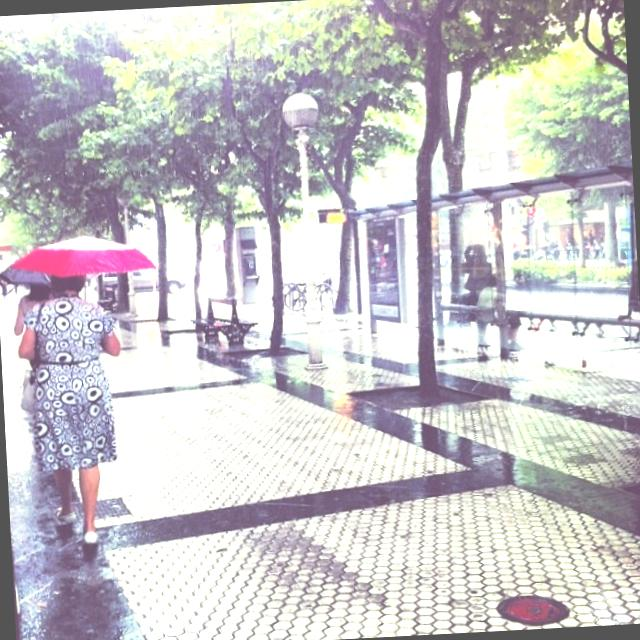Vehicle: (104, 266, 187, 298), (200, 264, 216, 284)
